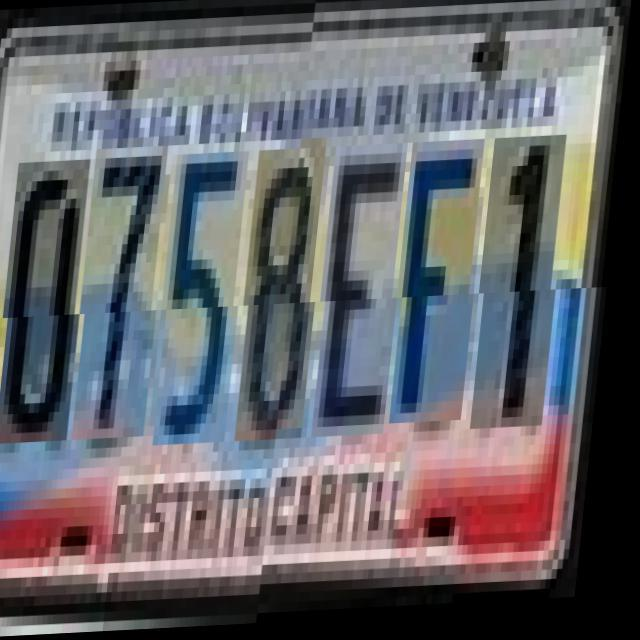0: (5, 160, 99, 444)
1: (480, 150, 574, 444)
5: (162, 154, 258, 448)
7: (82, 147, 176, 441)
8: (244, 150, 334, 444)
E: (320, 157, 416, 451)
F: (398, 154, 492, 438)
